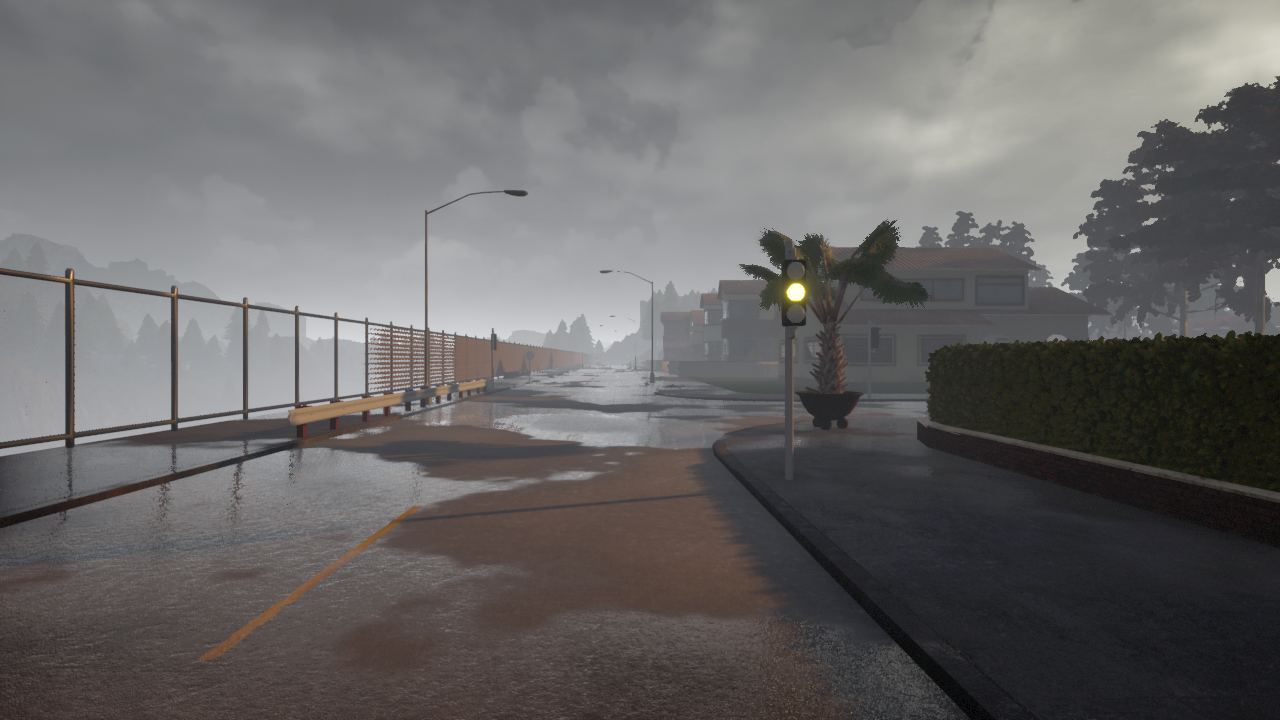yellow: (782, 259, 813, 328)
